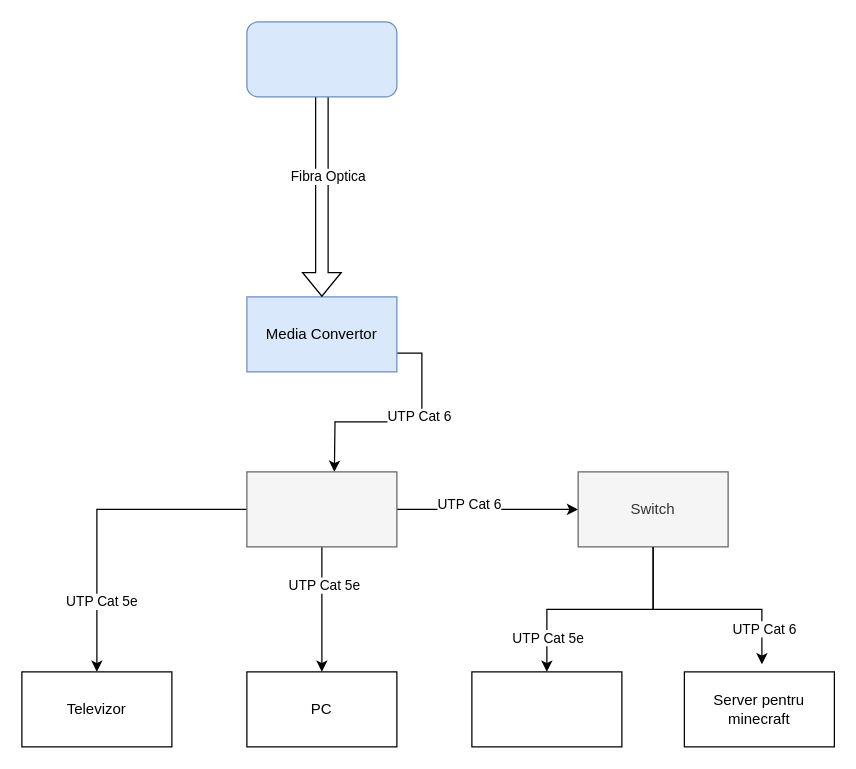
The diagram is 856 pixels wide and 769 high, and some of its shapes have lost their labels. The shapes that lost their labels are listed below. From the top down, each one's centre as x and y in pixels, then its label:
the point at 321,59: Provider Servicii Internet (Digi)
the point at 321,509: Router
the point at 546,709: Rapsberry PI
